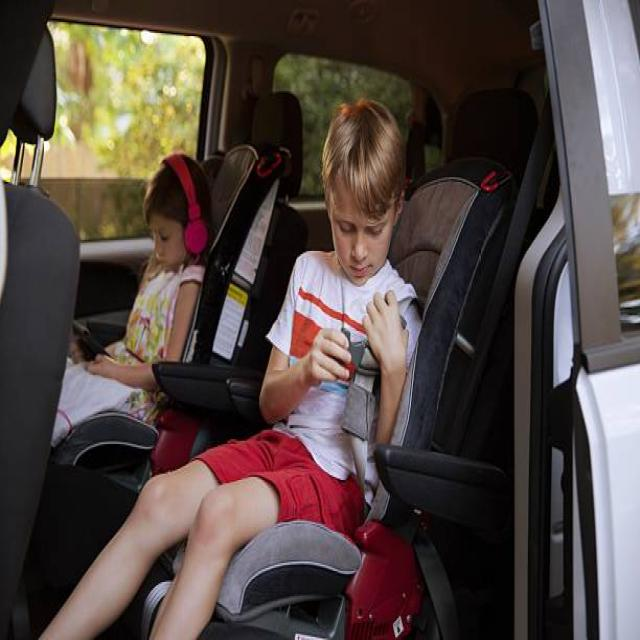Headphone: (163, 150, 209, 257)
